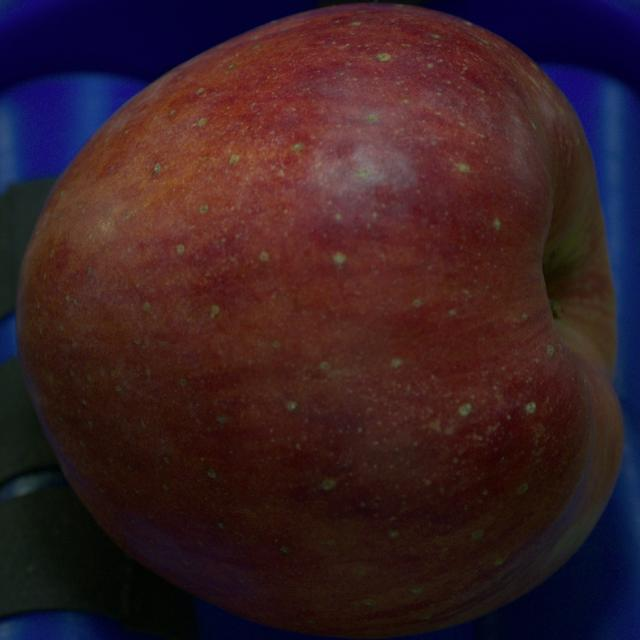apple: (16, 4, 622, 637)
